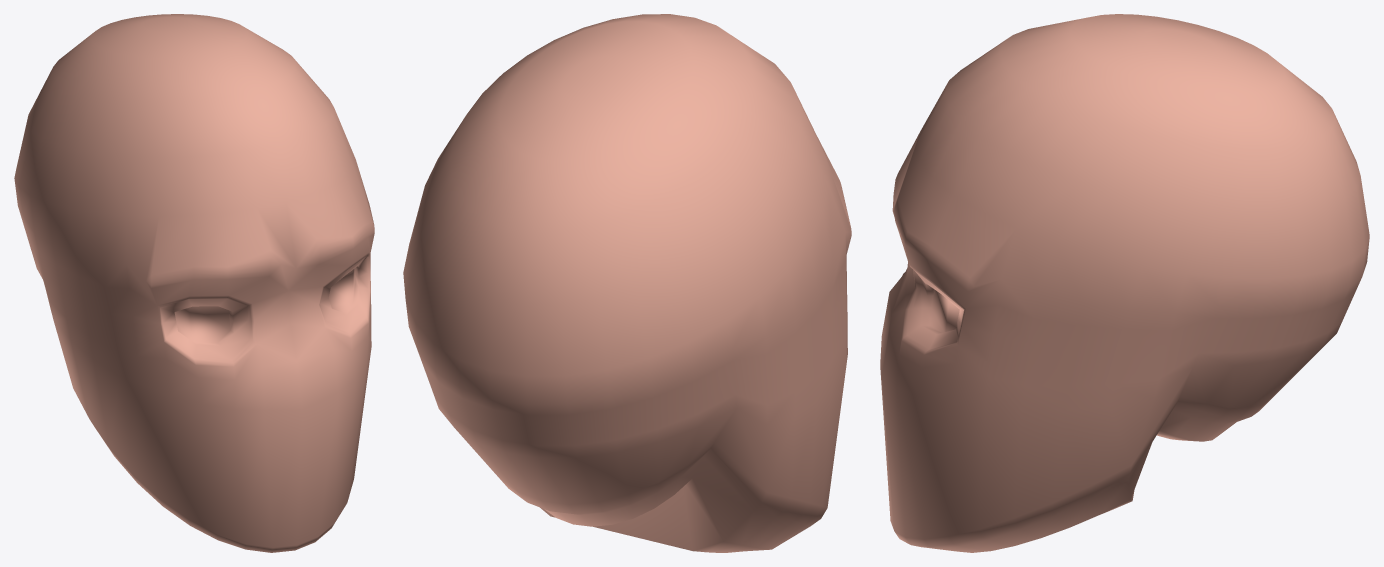
Rendered from uod.gltf.
3 views of the same model, side by side, from view 1: azimuth 30°, elevation 25°; view 2: azimuth 150°, elevation 25°; view 3: azimuth 270°, elevation 25° (orthographic). The views are drawn at different scales.
Visible parts, largest first — view 1: Cylinder; view 2: Cylinder; view 3: Cylinder.
Part boxes in pixels (left/top/right/bottom): Cylinder: left=14, top=14, right=374, bottom=552; Cylinder: left=403, top=14, right=851, bottom=552; Cylinder: left=880, top=14, right=1369, bottom=552.
Bounding box in the file's own units: 0.9129 × 1.42 × 1.25.
